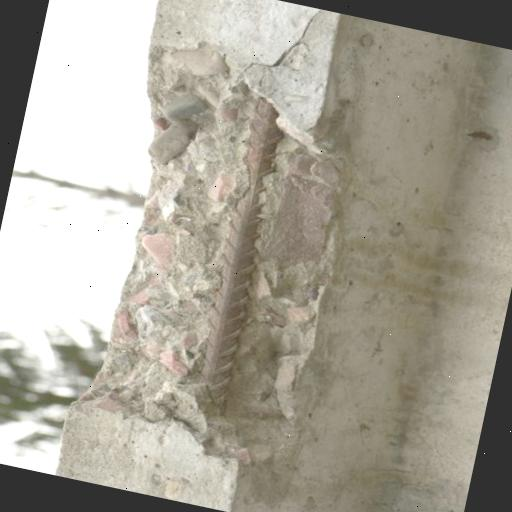spalling: (79, 94, 355, 466)
